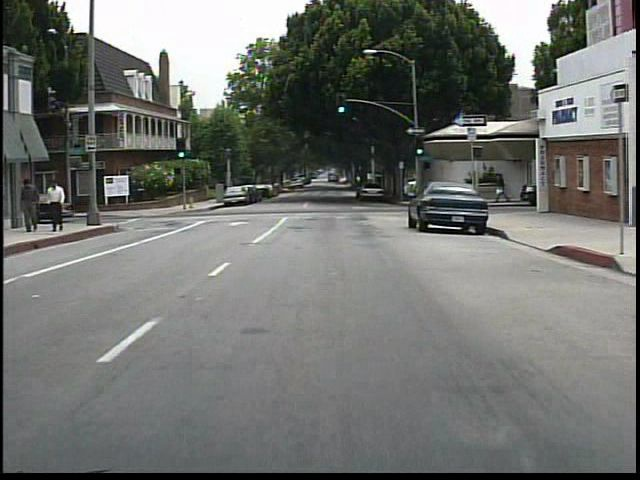person: (19, 175, 45, 235), (48, 179, 72, 234), (492, 170, 510, 205)
